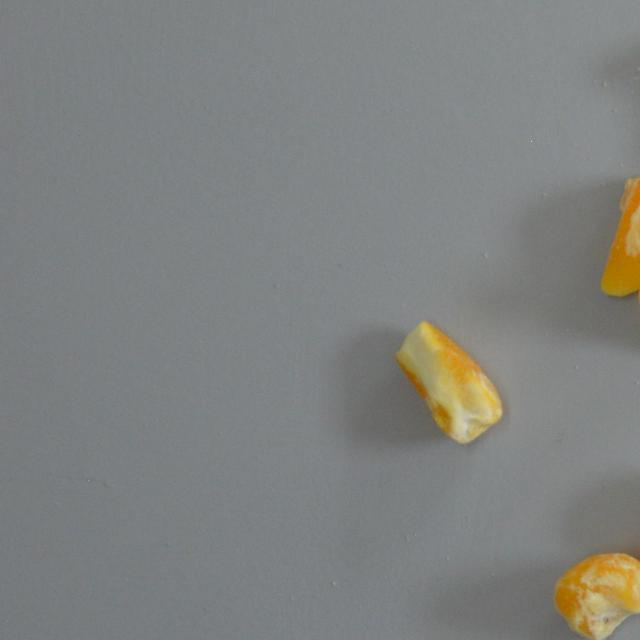pelicula: (392, 318, 504, 444), (596, 169, 640, 298)
punto_negro: (550, 550, 640, 640)
